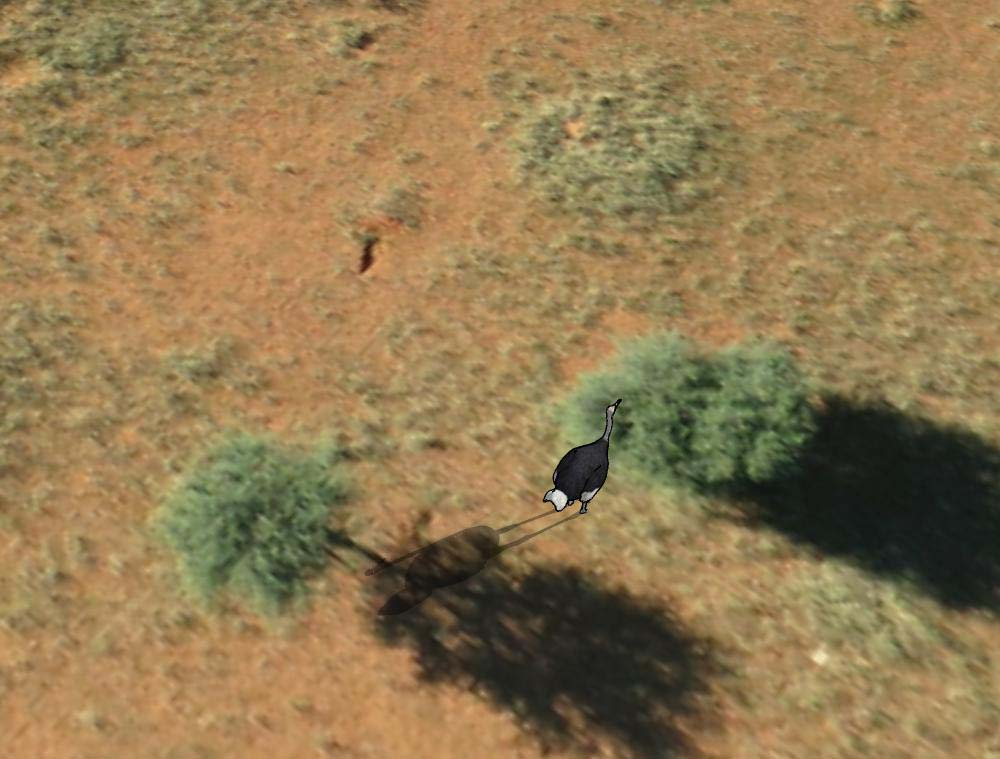springbok: (537, 398, 621, 517)
